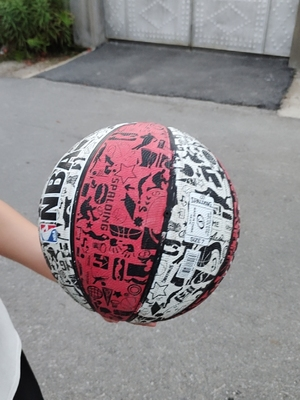ball: (37, 121, 242, 325)
